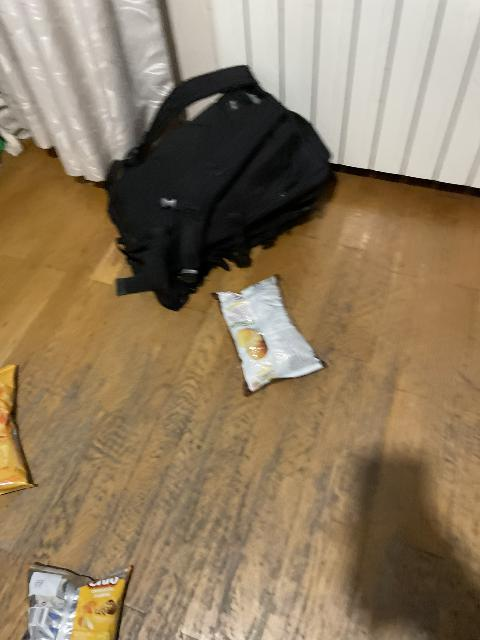Chio Cascaval 125g: (20, 559, 135, 640)
Chio Hula Hoops Cheese 70g: (0, 362, 36, 499)
Lays Beef Grilled Ribs 125g: (210, 277, 326, 392)
